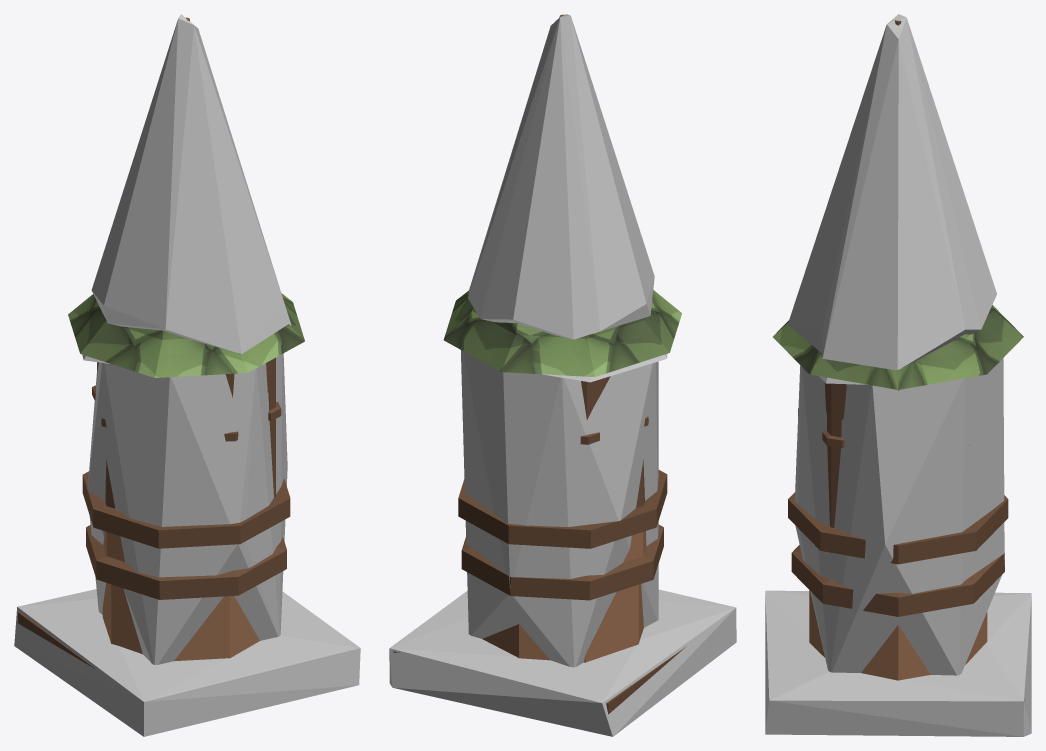
Rendered from SM_Bld_Roof_Tower_02.fbx.
3 views of the same model, side by side, from view 1: azimuth 30°, elevation 25°; view 2: azimuth 150°, elevation 25°; view 3: azimuth 270°, elevation 25° (orthographic). The views are drawn at different scales.
Visible parts, largest first — view 1: SM_Bld_Roof_Tower_02_ConvexHulls, SM_Bld_Roof_Tower_02; view 2: SM_Bld_Roof_Tower_02_ConvexHulls, SM_Bld_Roof_Tower_02; view 3: SM_Bld_Roof_Tower_02_ConvexHulls, SM_Bld_Roof_Tower_02.
Part boxes in pixels (x1,y1,x2,y2): SM_Bld_Roof_Tower_02_ConvexHulls: (14,14,360,736); SM_Bld_Roof_Tower_02: (18,17,304,668); SM_Bld_Roof_Tower_02_ConvexHulls: (389,14,736,736); SM_Bld_Roof_Tower_02: (393,14,685,714); SM_Bld_Roof_Tower_02_ConvexHulls: (765,14,1031,736); SM_Bld_Roof_Tower_02: (773,20,1024,701).
Size of the model in its own units: 269 by 273 by 749.
Materials: 3 (2 with a texture image).
